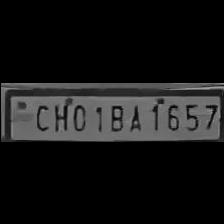0: (69, 100, 89, 132)
1: (146, 98, 162, 132), (88, 102, 104, 132)
5: (180, 99, 200, 130)
6: (162, 99, 180, 131)
7: (200, 99, 218, 130)
A: (125, 100, 144, 132)
B: (105, 100, 125, 132)
C: (29, 99, 49, 131)
H: (50, 98, 68, 132)
